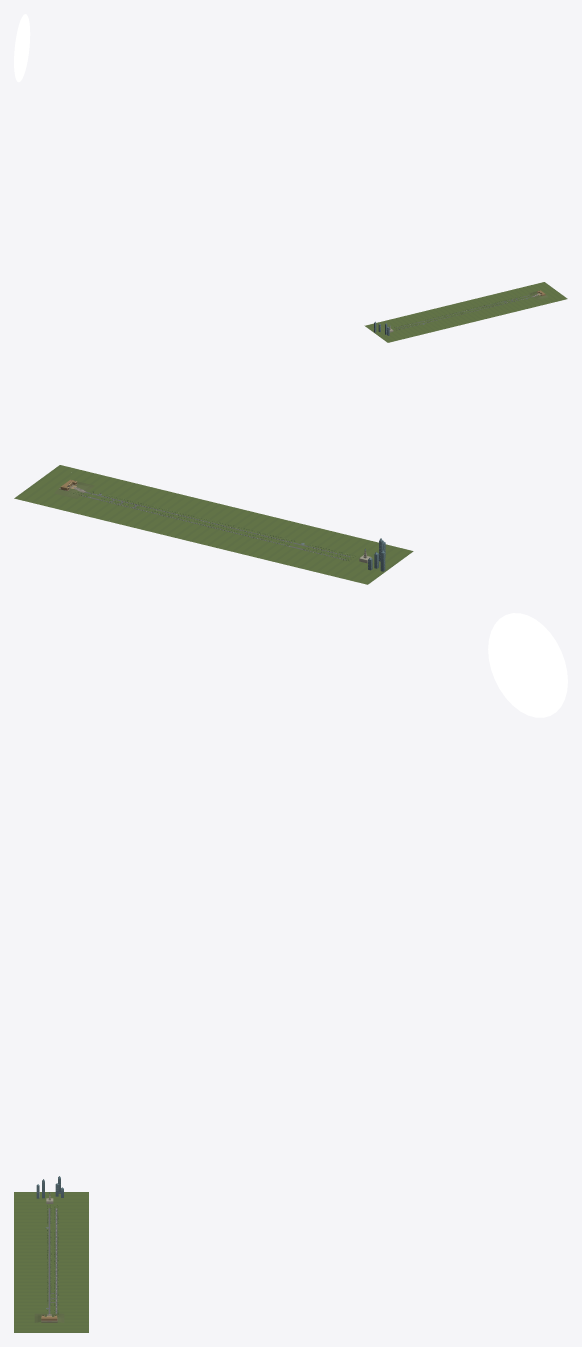
File: artmuseum.glb
3 renders of one model, top to bottom at view 1: azimuth 30°, elevation 25°; view 2: azimuth 150°, elevation 25°; view 3: azimuth 270°, elevation 25°, orthographic. The views are drawn at different scales.
Visible parts, largest first — view 1: Land_000, Sun, Land_008, Land_005, Land_007, Land_001; view 2: Land_000, Land_008, Land_005, Land_007, Land_001, Land_006, Land_004, Peaks, Land_002; view 3: Sun, Land_000, Land_008, Land_005, Land_007, Land_001.
Boxes of the visible parts, <box> form: Land_000: <box>364,312,476,342</box>; Sun: <box>14,14,30,82</box>; Land_008: <box>400,301,477,323</box>; Land_005: <box>504,282,567,308</box>; Land_007: <box>467,282,566,309</box>; Land_001: <box>465,301,519,320</box>; Land_000: <box>215,508,413,584</box>; Land_008: <box>167,519,305,567</box>; Land_005: <box>16,465,140,517</box>; Land_007: <box>17,466,189,535</box>; Land_001: <box>116,488,237,524</box>; Land_006: <box>21,465,125,506</box>; Land_004: <box>14,475,153,521</box>; Peaks: <box>359,538,385,571</box>; Land_002: <box>20,467,112,503</box>; Sun: <box>488,613,567,717</box>; Land_000: <box>14,1192,88,1261</box>; Land_008: <box>51,1219,88,1271</box>; Land_005: <box>14,1297,88,1332</box>; Land_007: <box>14,1271,88,1332</box>; Land_001: <box>14,1260,51,1299</box>.
Bounding box in the file's own units: 5729 × 3488 × 4216.
